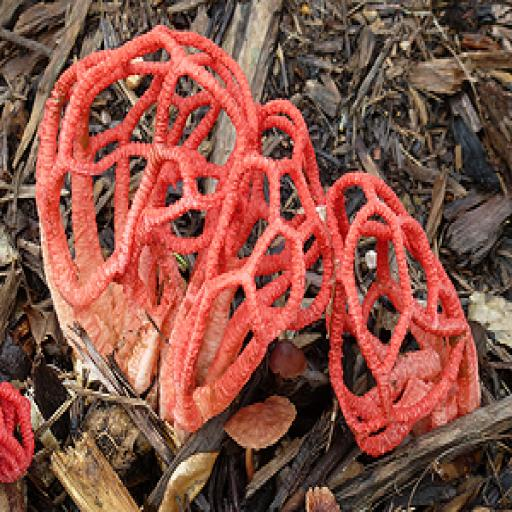Red Cage Fungus: (29, 23, 334, 432), (324, 162, 488, 470), (0, 381, 33, 488)
